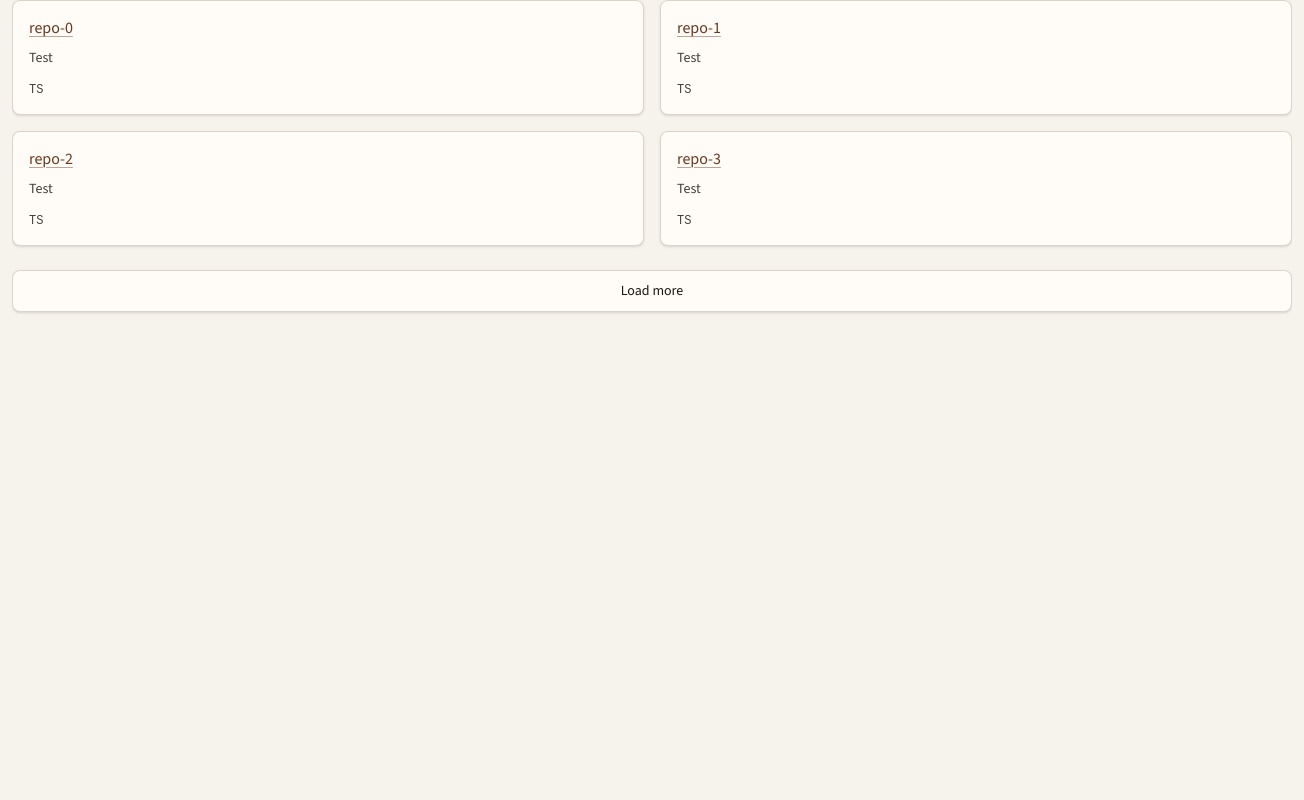
RepoList › shows four cards initially, loads four more per click, then hides the button
This screenshot has width=1304, height=800.
Expected: the number of list items is 4, [12,0,644,115]; [660,0,1292,115]; [12,131,644,246]; [660,131,1292,246]
Click the button "Load more" at point(652, 290), box [12,270,1292,312]
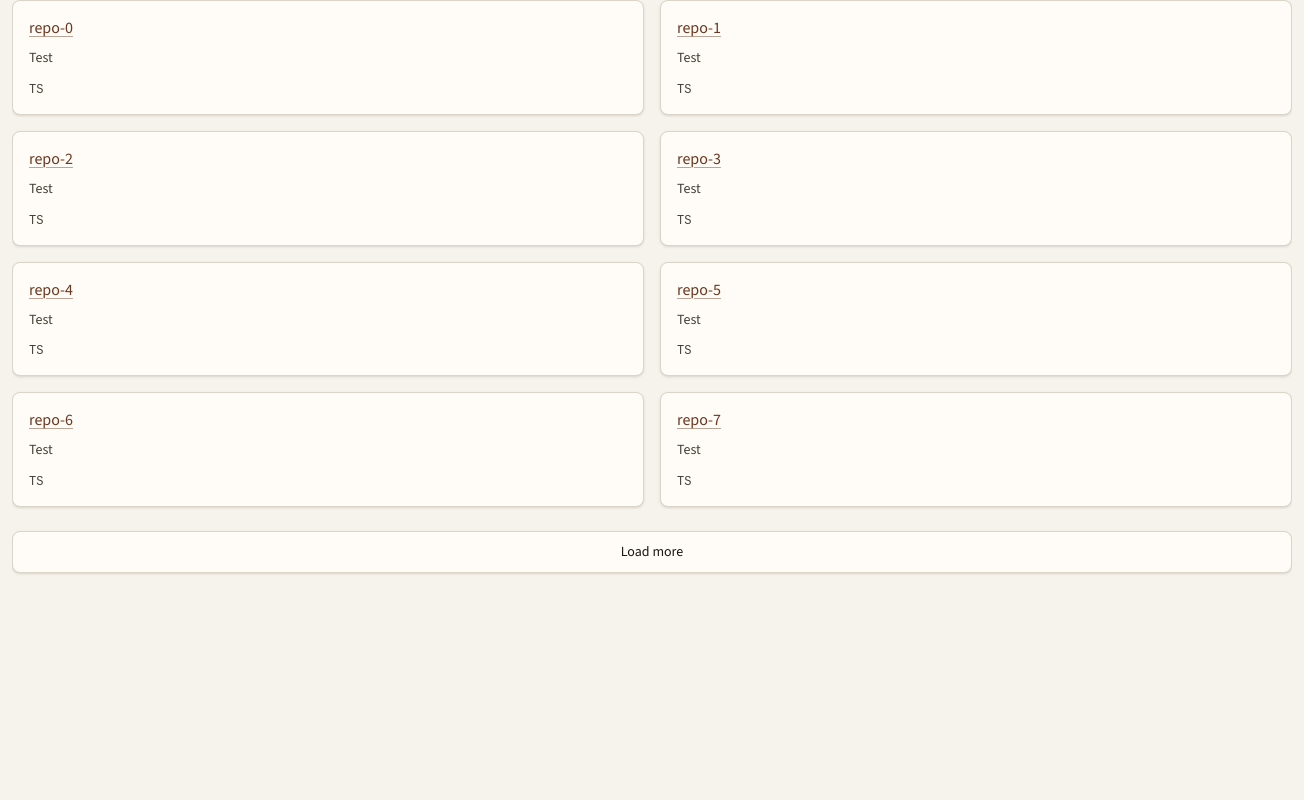
Expected: the number of list items is 8
Click the button "Load more" at point(652, 552), box [12,531,1292,573]
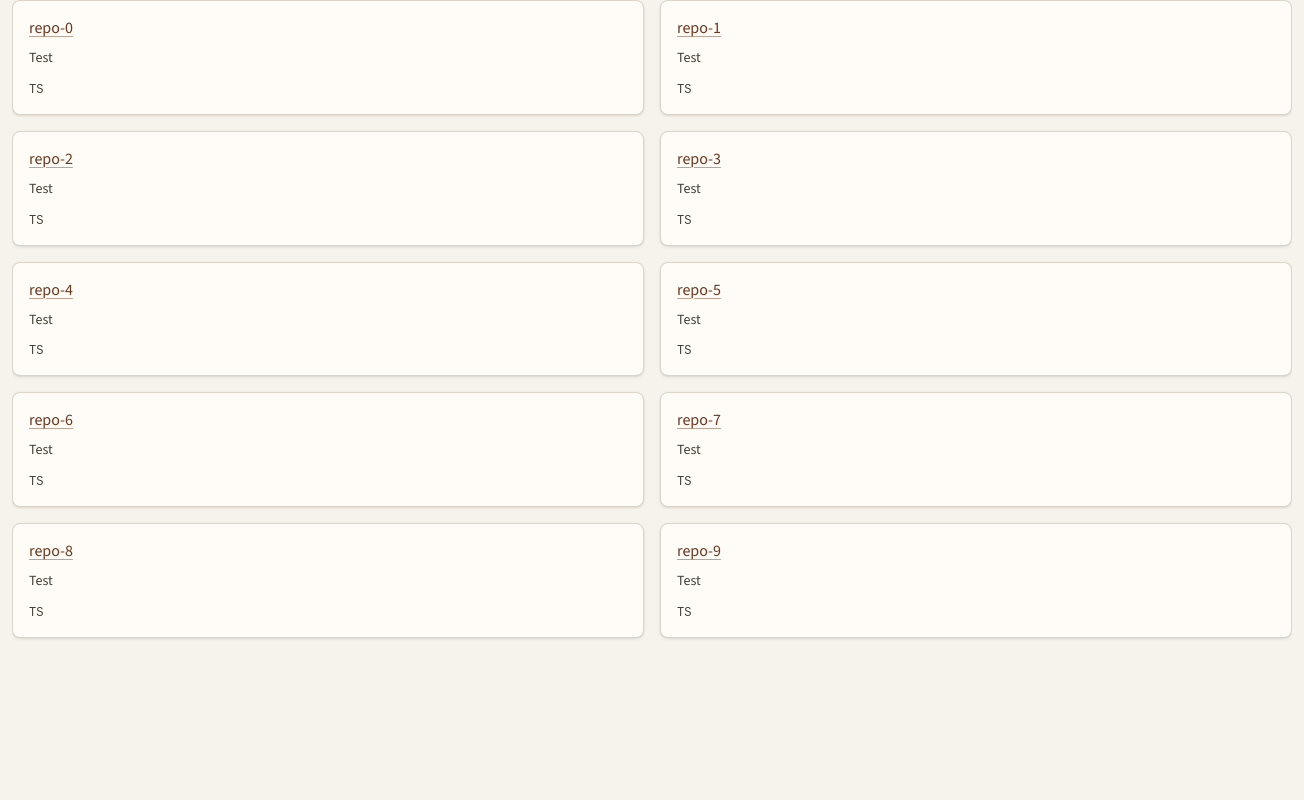
Expected: the number of list items is 10
Expected: the button "Load more" is gone
